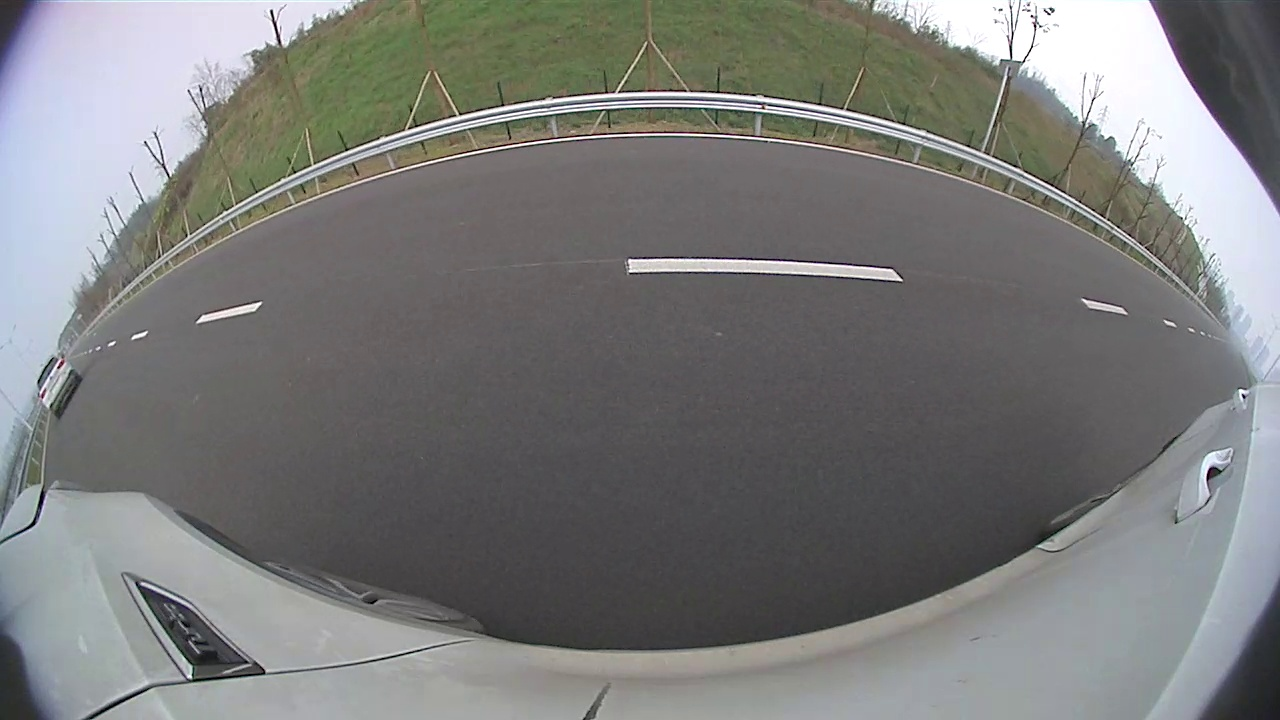car: (704, 141, 790, 202)
rear: (718, 176, 731, 201)
